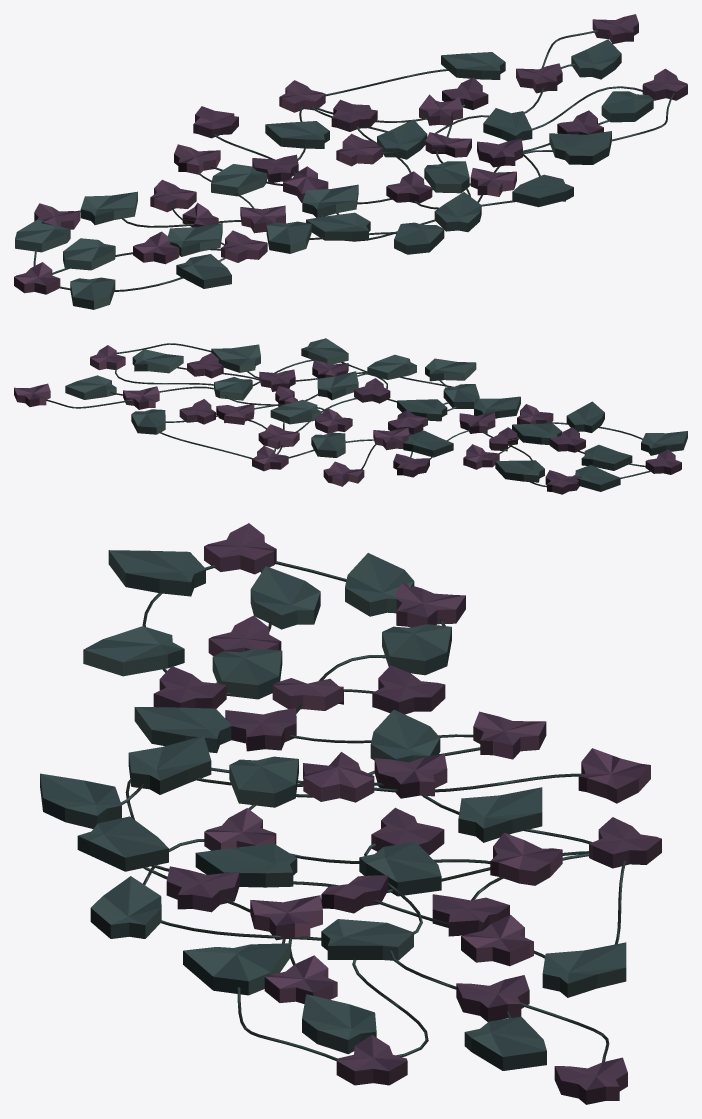
File: LIANE1.obj
3 views of the same model, one above another, from view 1: azimuth 30°, elevation 25°; view 2: azimuth 150°, elevation 25°; view 3: azimuth 270°, elevation 25° (orthographic). The views are drawn at different scales.
Visible parts, largest first — view 1: LIANE1; view 2: LIANE1; view 3: LIANE1.
Boxes of the visible parts, x1,y1,x2,y2 form: LIANE1: [14, 14, 687, 309]; LIANE1: [14, 338, 687, 494]; LIANE1: [40, 523, 661, 1104].
Bounding box in the file's own units: 0.8718 × 0.0172 × 0.4065.
3 materials, 3 textured.
